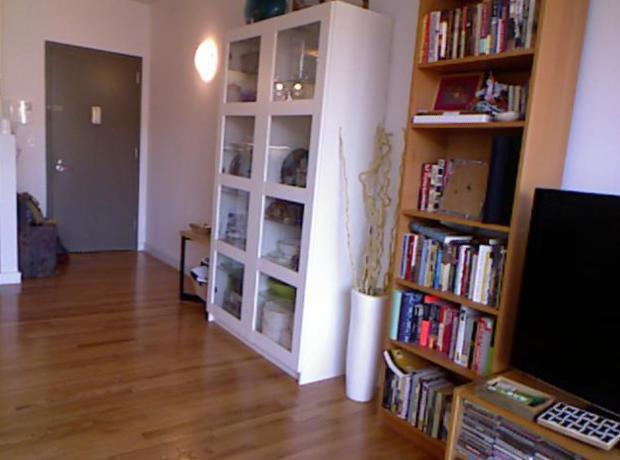Armario: (198, 13, 388, 366)
Matera: (335, 120, 408, 412)
